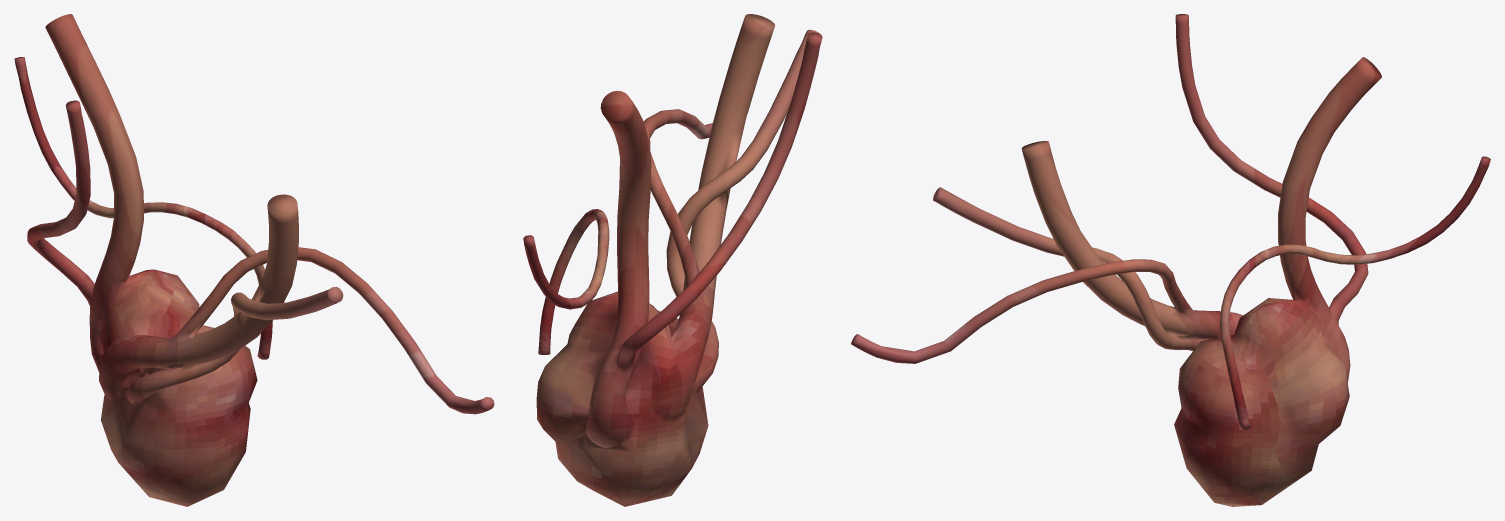
File: Heart.fbx
3 renders of one model, left to right at view 1: azimuth 30°, elevation 25°; view 2: azimuth 150°, elevation 25°; view 3: azimuth 270°, elevation 25°, orthographic. The views are drawn at different scales.
Parts seen in each view (by area): view 1: Icosphere.001; view 2: Icosphere.001; view 3: Icosphere.001.
Boxes of the visible parts, x1,y1,x2,y2 form: Icosphere.001: [14, 14, 494, 506]; Icosphere.001: [523, 14, 822, 506]; Icosphere.001: [851, 14, 1490, 506].
Size of the model in its own units: 4014 by 6975 by 9447.
